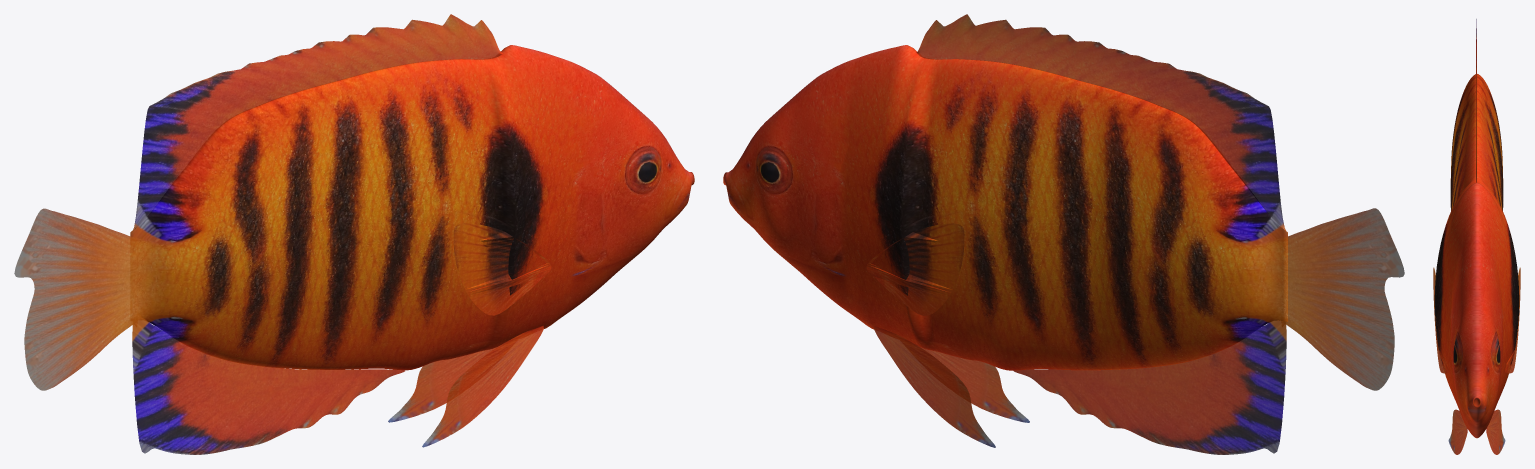
The model's file is loricula.glb.
3 views of the same model, side by side, from view 1: azimuth 30°, elevation 25°; view 2: azimuth 150°, elevation 25°; view 3: azimuth 270°, elevation 25° (orthographic). The views are drawn at different scales.
Parts seen in each view (by area): view 1: loricula__body, loricula__fin_2, loricula__fin_1, loricula__fin_0, loricula__gill_1, loricula__pectoral_1, loricula__pelvic_1, loricula__pelvic_-1, loricula__eye_1; view 2: loricula__body, loricula__fin_2, loricula__fin_1, loricula__fin_0, loricula__gill_-1, loricula__pectoral_-1, loricula__pelvic_-1, loricula__pelvic_1, loricula__eye_-1; view 3: loricula__body, loricula__pelvic_1, loricula__pelvic_-1, loricula__gill_1, loricula__gill_-1, loricula__pectoral_1, loricula__pectoral_-1, loricula__fin_1, loricula__eye_1, loricula__eye_-1.
Part boxes in pixels (left/top/right/bottom): loricula__body: left=130, top=45, right=694, bottom=370; loricula__fin_2: left=132, top=313, right=404, bottom=454; loricula__fin_1: left=132, top=14, right=502, bottom=231; loricula__fin_0: left=14, top=208, right=137, bottom=390; loricula__gill_1: left=567, top=132, right=621, bottom=276; loricula__pectoral_1: left=453, top=223, right=551, bottom=315; loricula__pelvic_1: left=422, top=325, right=543, bottom=447; loricula__pelvic_-1: left=388, top=347, right=496, bottom=422; loricula__eye_1: left=630, top=150, right=658, bottom=185; loricula__body: left=723, top=45, right=1287, bottom=370; loricula__fin_2: left=1013, top=320, right=1286, bottom=454; loricula__fin_1: left=916, top=14, right=1285, bottom=230; loricula__fin_0: left=1281, top=208, right=1404, bottom=390; loricula__gill_-1: left=796, top=132, right=850, bottom=276; loricula__pectoral_-1: left=866, top=223, right=964, bottom=315; loricula__pelvic_-1: left=874, top=326, right=995, bottom=447; loricula__pelvic_1: left=921, top=347, right=1029, bottom=422; loricula__eye_-1: left=759, top=150, right=787, bottom=185; loricula__body: left=1434, top=74, right=1519, bottom=438; loricula__pelvic_1: left=1448, top=409, right=1467, bottom=454; loricula__pelvic_-1: left=1486, top=409, right=1505, bottom=454; loricula__gill_1: left=1451, top=281, right=1457, bottom=392; loricula__gill_-1: left=1496, top=281, right=1502, bottom=392; loricula__pectoral_1: left=1433, top=267, right=1448, bottom=373; loricula__pectoral_-1: left=1505, top=267, right=1520, bottom=373; loricula__fin_1: left=1476, top=19, right=1476, bottom=182; loricula__eye_1: left=1453, top=335, right=1460, bottom=364; loricula__eye_-1: left=1493, top=335, right=1500, bottom=364.
Bounding box in the file's own units: 1.21 × 0.7105 × 0.1634.
5 materials, 5 textured.
